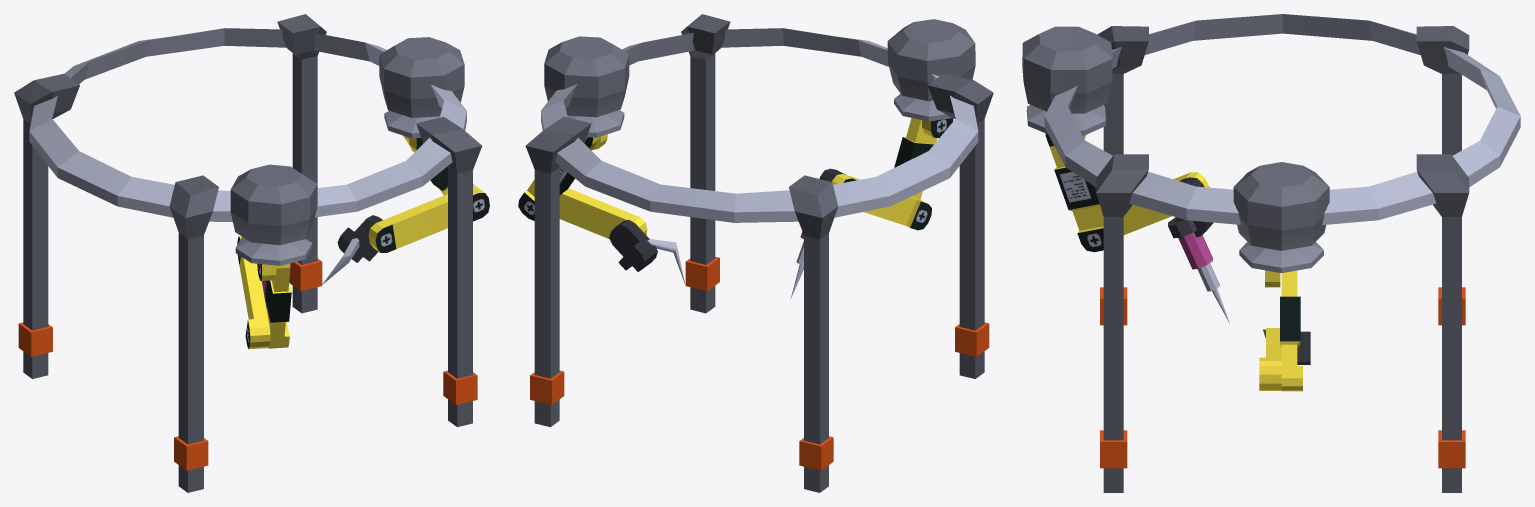
Rendered from WorkRobot.fbx.
The picture shows the model from 3 angles, left to right: view 1: azimuth 30°, elevation 25°; view 2: azimuth 150°, elevation 25°; view 3: azimuth 270°, elevation 25°; orthographic projection. The views are drawn at different scales.
Parts seen in each view (by area): view 1: Окружность.011; view 2: Окружность.011; view 3: Окружность.011.
Boxes of the visible parts, box(x1,y1,x2,y2) form: Окружность.011: box(14, 14, 489, 492); Окружность.011: box(518, 14, 993, 492); Окружность.011: box(1022, 14, 1520, 492).
Bounding box in the file's own units: 434 × 307 × 407.
